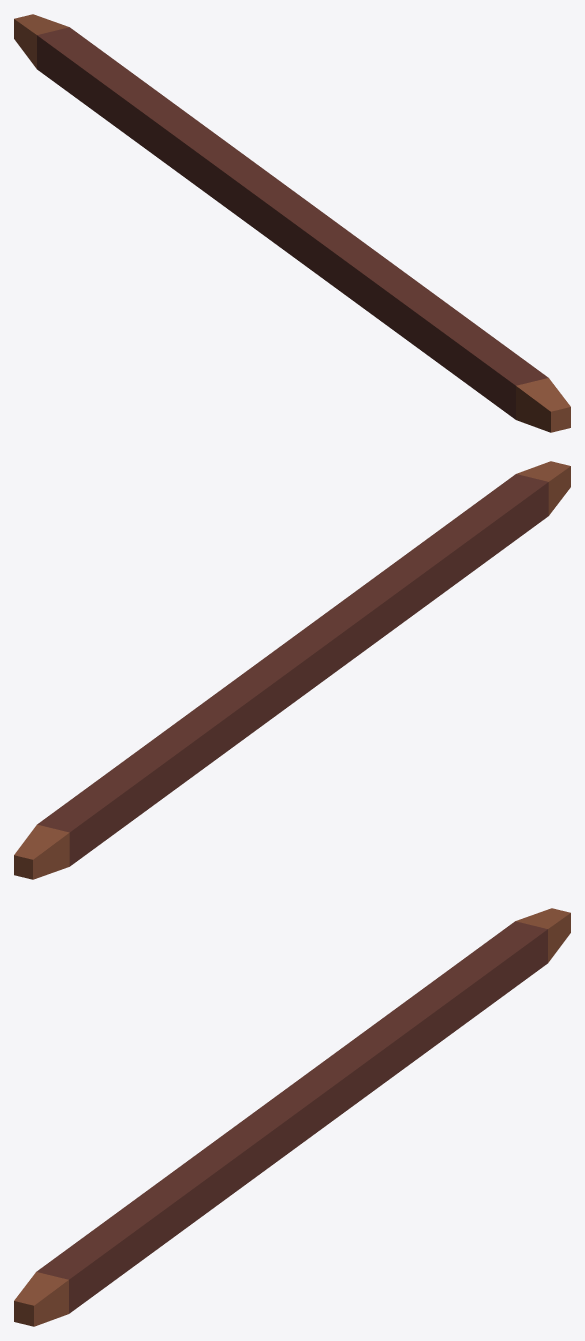
Rendered from scroll handle.fbx.
3 renders of one model, top to bottom at view 1: azimuth 30°, elevation 25°; view 2: azimuth 150°, elevation 25°; view 3: azimuth 330°, elevation 25°, orthographic.
Visible parts, largest first — view 1: Cube.001; view 2: Cube.001; view 3: Cube.001.
Part boxes in pixels (left/top/right/bottom): Cube.001: left=14, top=14, right=570, bottom=432; Cube.001: left=14, top=461, right=570, bottom=879; Cube.001: left=14, top=908, right=570, bottom=1326.
Bounding box in the file's own units: 6.18 × 6.18 × 176.
